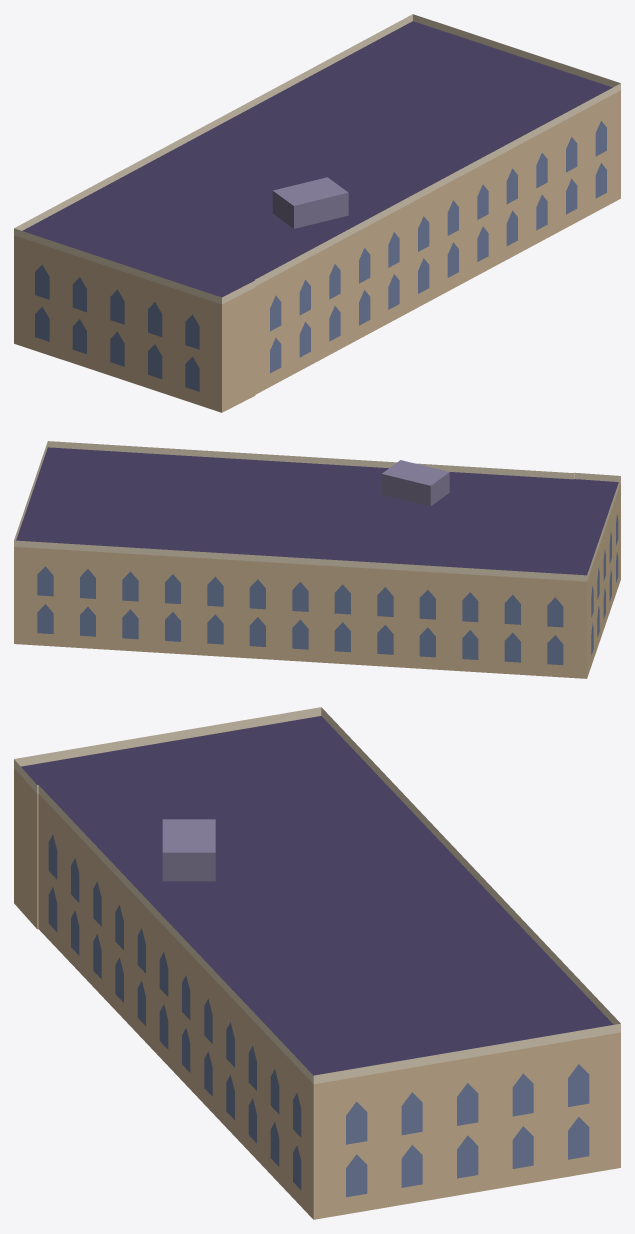
Rendered from b-126-day.glb.
The picture shows the model from 3 angles, top to bottom: view 1: azimuth 30°, elevation 25°; view 2: azimuth 150°, elevation 25°; view 3: azimuth 270°, elevation 25°; orthographic projection. The views are drawn at different scales.
Parts seen in each view (by area): view 1: campus/b-126-day-0; view 2: campus/b-126-day-0; view 3: campus/b-126-day-0.
Boxes of the visible parts, <box> form: campus/b-126-day-0: <box>14,14,620,412</box>; campus/b-126-day-0: <box>14,441,620,678</box>; campus/b-126-day-0: <box>14,707,620,1219</box>.
Size of the model in its own units: 49.58 by 10.3 by 34.51.
